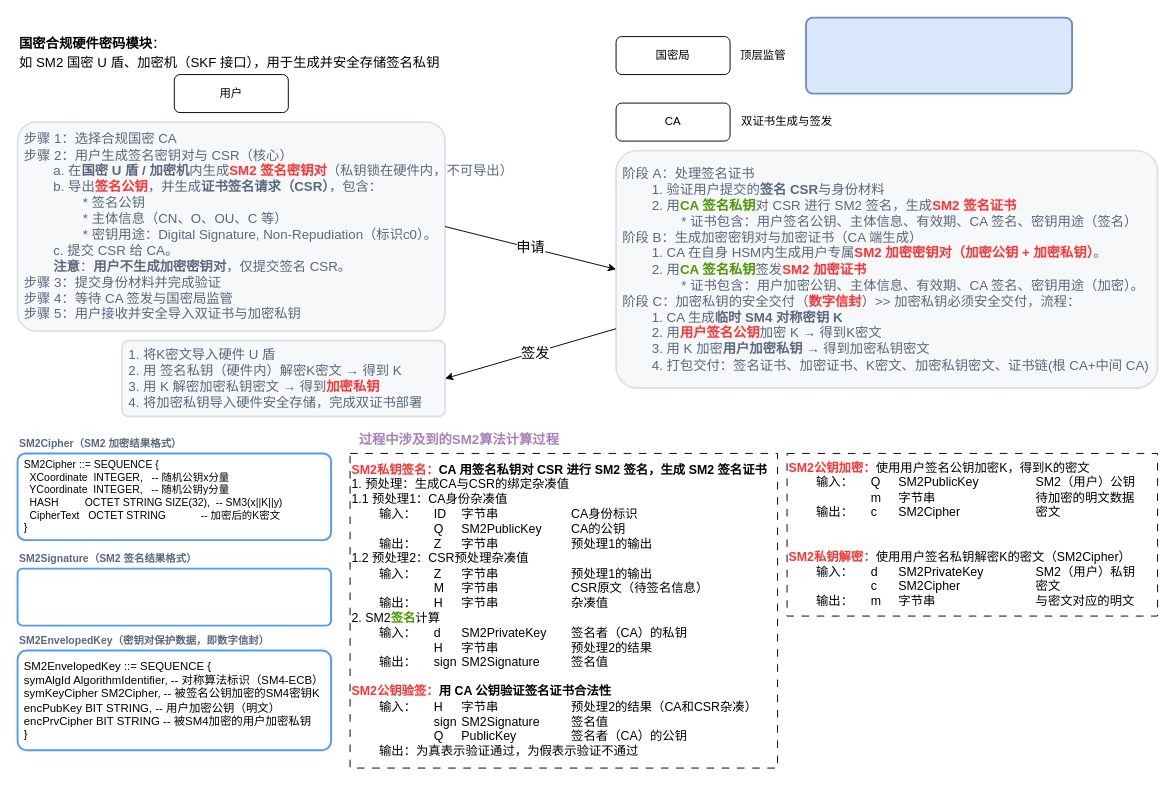
Image size: 1174x785. Some labels were removed from this diagram. The shapes that lost their labels are listed below. From the top down, each one's centre as x and y in pixels, then its label:
At point 939,55: "审批 CA 资质，颁发《电子认证服务许可证》 管理国密根 CA 与信任链 监督 CA 密钥生成、证书签发、私钥管理的合规性 备案证书策略与审计日志".
At point 174,596: "SM2Signature ::= SEQUENCE { R INTEGER, -- 签名值的第一部分 S INTEGER, -- 签名值的第二部分 }".
